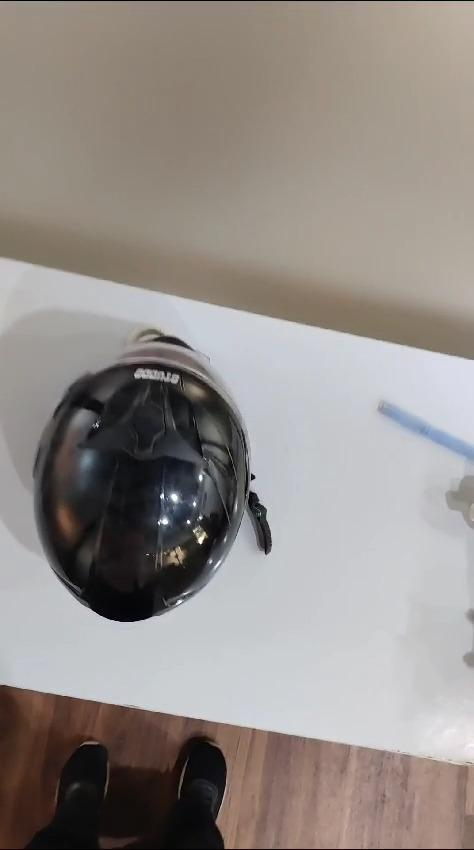Helmet: (18, 318, 249, 636)
